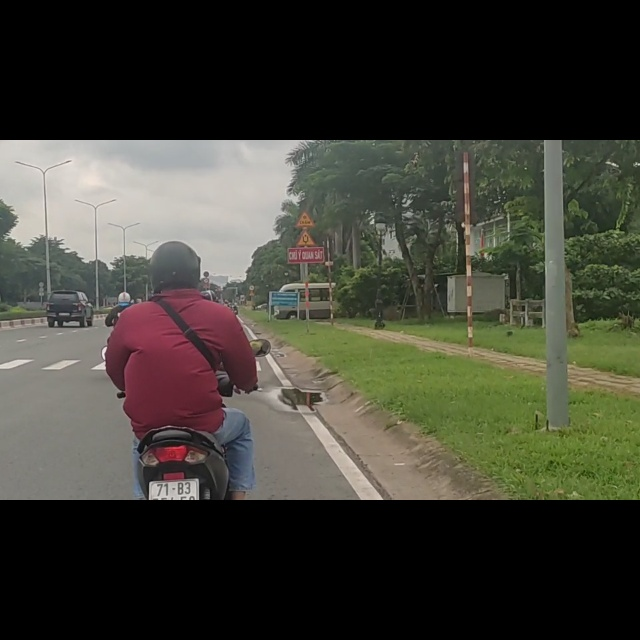bien_cam: (295, 158, 318, 191), (295, 124, 315, 153), (203, 232, 210, 244)
